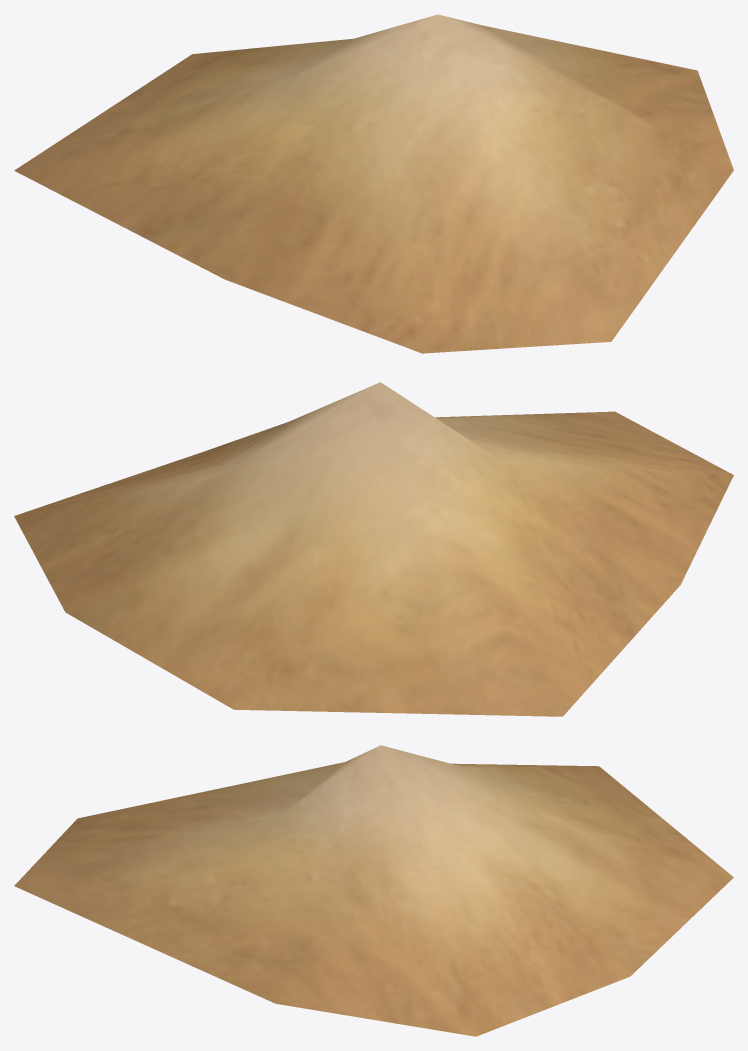
File: shaqiu02.FBX
3 renders of one model, top to bottom at view 1: azimuth 30°, elevation 25°; view 2: azimuth 150°, elevation 25°; view 3: azimuth 270°, elevation 25°, orthographic. The views are drawn at different scales.
Parts seen in each view (by area): view 1: shaqiu02; view 2: shaqiu02; view 3: shaqiu02.
Boxes of the visible parts, bbox=[...] form: shaqiu02: bbox=[14, 14, 733, 353]; shaqiu02: bbox=[14, 382, 733, 716]; shaqiu02: bbox=[14, 745, 733, 1036].
Size of the model in its own units: 191 by 50.8 by 215.
